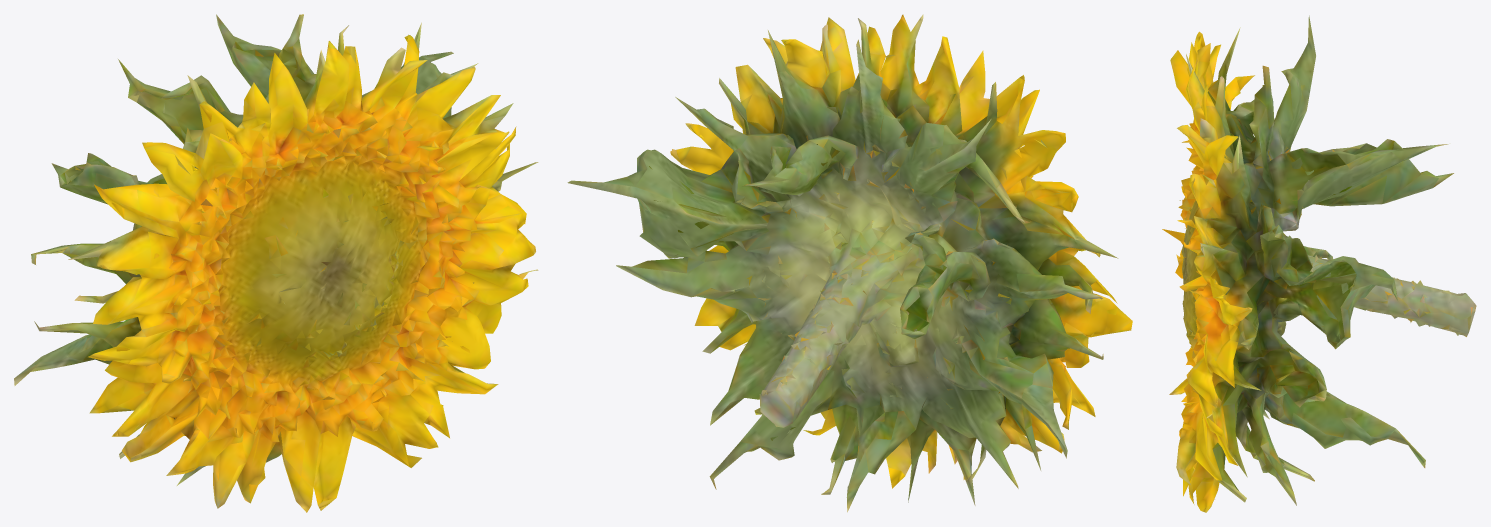
Rendered from sunflower.glb.
3 renders of one model, left to right at view 1: azimuth 30°, elevation 25°; view 2: azimuth 150°, elevation 25°; view 3: azimuth 270°, elevation 25°, orthographic. The views are drawn at different scales.
Visible parts, largest first — view 1: Object_2; view 2: Object_2; view 3: Object_2.
Part boxes in pixels (<box>): Object_2: <box>14,14,538,512</box>; Object_2: <box>567,14,1132,512</box>; Object_2: <box>1162,15,1476,512</box>.
Size of the model in its own units: 2.07 by 1.95 by 1.26.
Materials: 1 (1 with a texture image).
